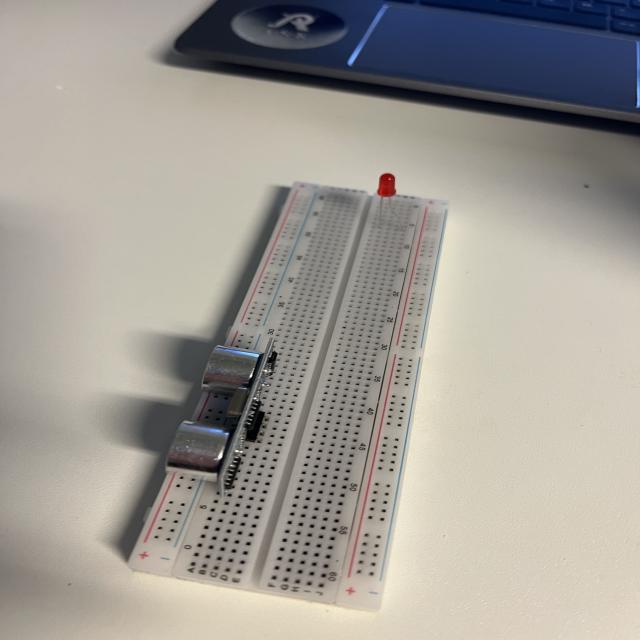BreadBoard: (135, 179, 452, 615)
REDLed: (362, 165, 418, 230)
UltrasoneSensor: (152, 336, 289, 497)
